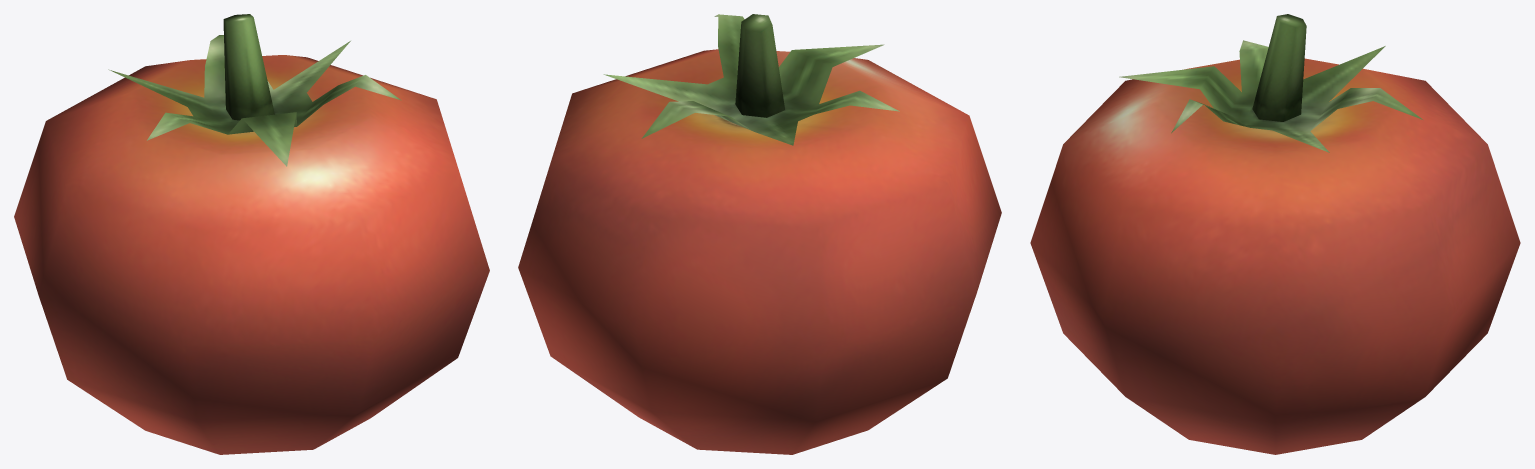
Rendered from solo_tomato.fbx.
3 renders of one model, left to right at view 1: azimuth 30°, elevation 25°; view 2: azimuth 150°, elevation 25°; view 3: azimuth 270°, elevation 25°, orthographic. The views are drawn at different scales.
Visible parts, largest first — view 1: tomato_2.007; view 2: tomato_2.007; view 3: tomato_2.007.
Part boxes in pixels (x1=…): tomato_2.007: x1=14, y1=14, x2=489, y2=454; tomato_2.007: x1=518, y1=14, x2=1001, y2=454; tomato_2.007: x1=1030, y1=14, x2=1520, y2=454.
Bounding box in the file's own units: 38.02 × 33.84 × 38.02.
Materials: 1 (1 with a texture image).
